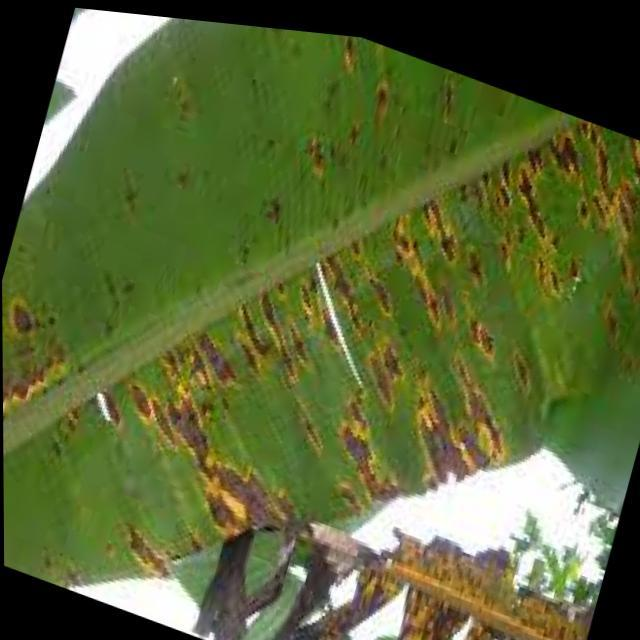Early_rust: (0, 36, 640, 606)
